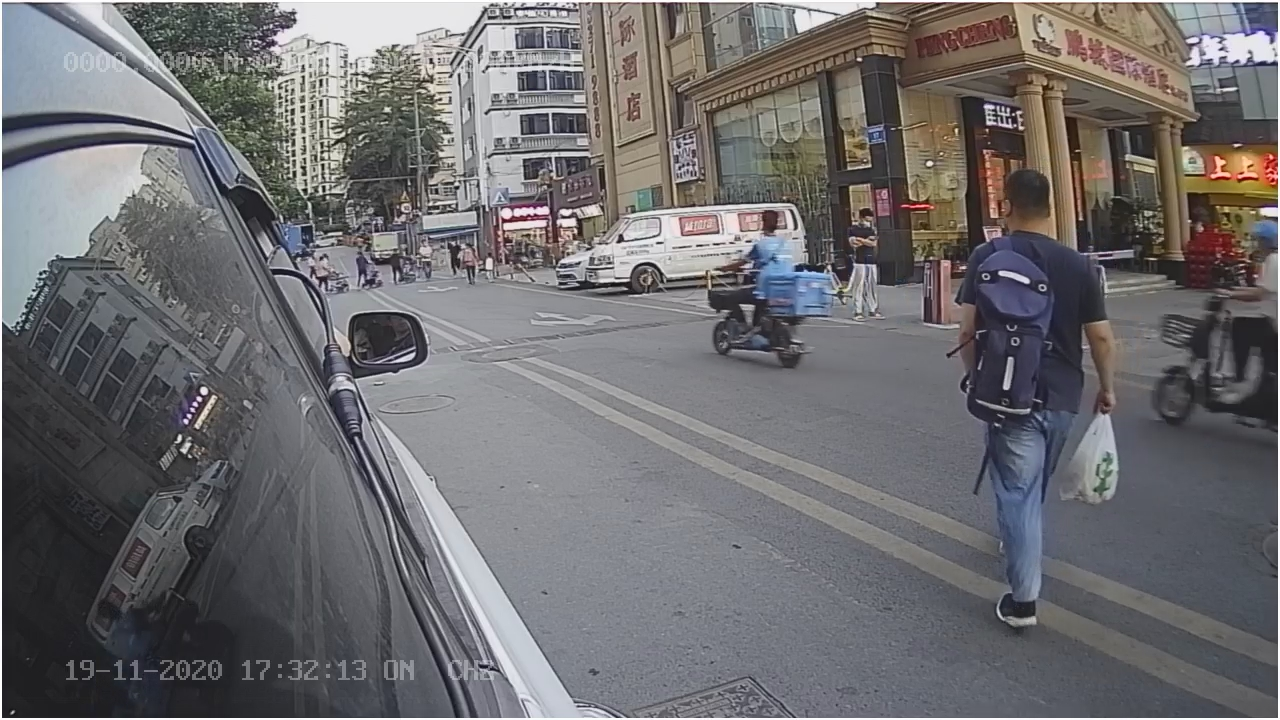person: (958, 163, 1091, 622)
